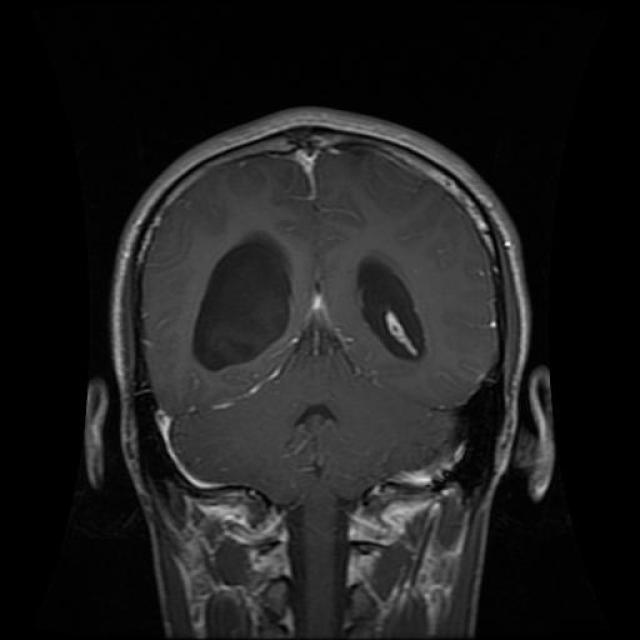glioma: (184, 226, 436, 382)
